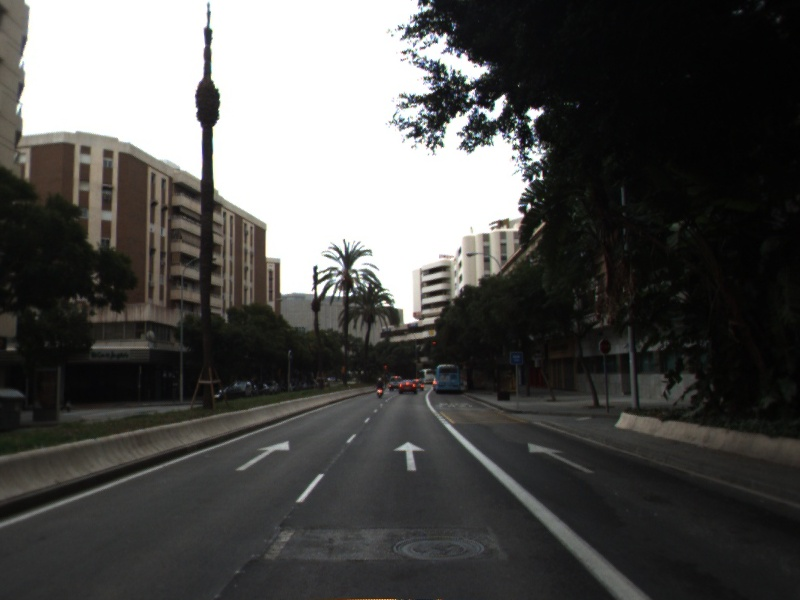STRAIGHT: (526, 441, 598, 476), (233, 439, 292, 473), (391, 439, 427, 473)
